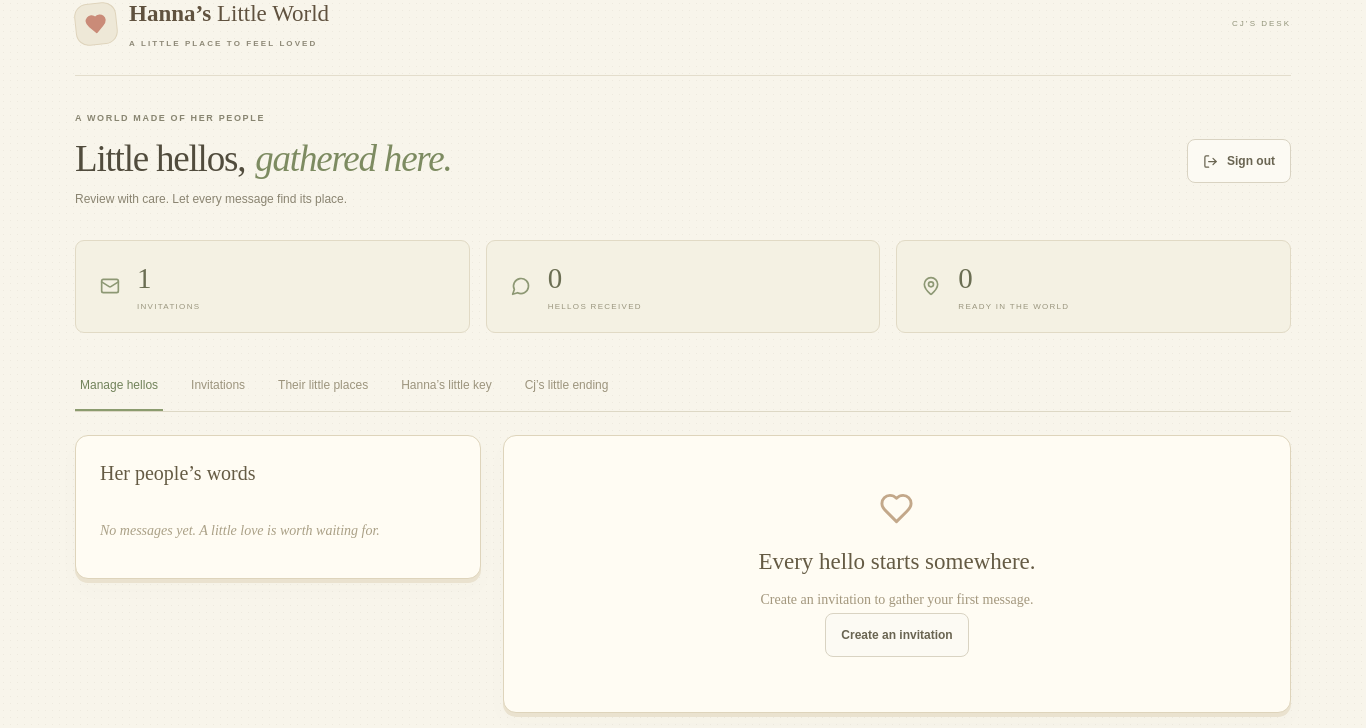
Test case: Returning contributor UI › reveals saved links and offers explicit replacement for older invitations
What coordinates should you click on to do the following:
click the button "Invitations"
I would click on:
 (218, 386)
Its box is x1=186 y1=362 x2=250 y2=411.
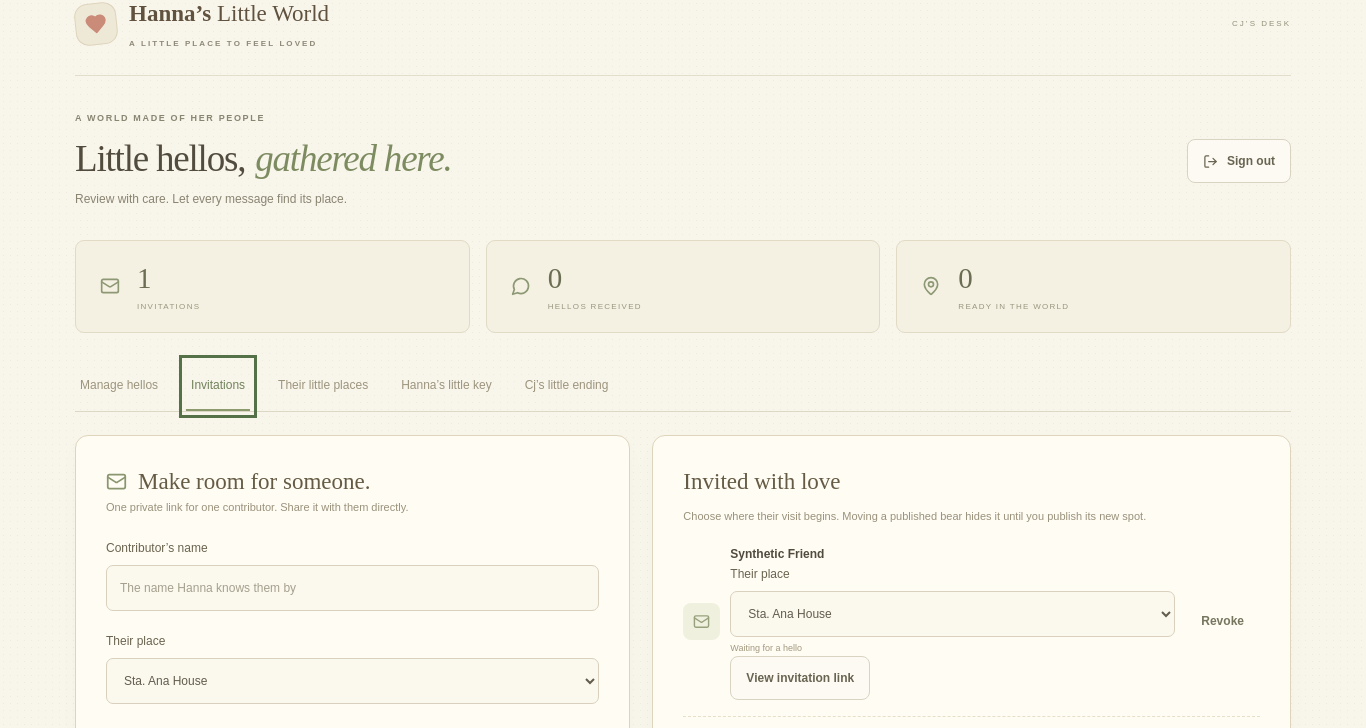
What coordinates should you click on to do the following:
click the button "View invitation link"
I would click on:
 (800, 678)
Its box is x1=730 y1=656 x2=870 y2=700.
(page scrolled)
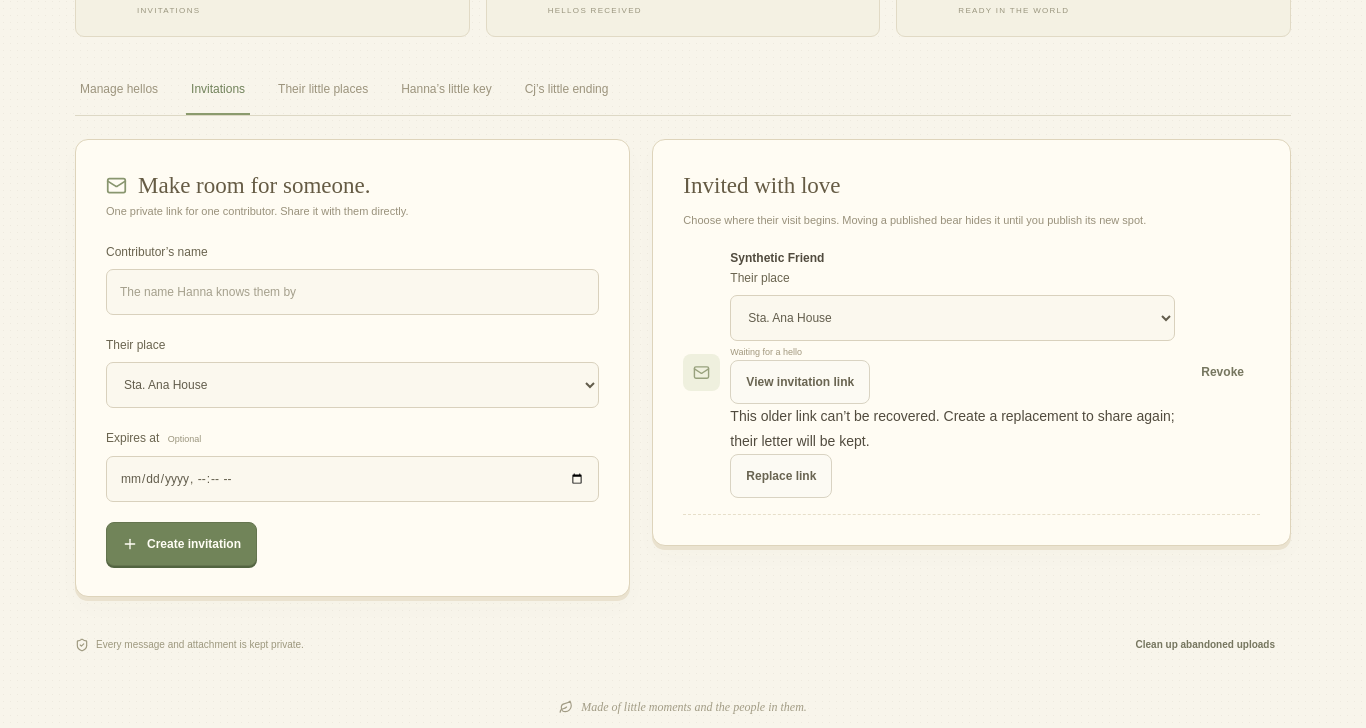
Check: the button "Replace link" is shown
What coordinates should you click on to do the following:
click the button "Replace link"
I would click on:
 (781, 476)
Its box is x1=730 y1=454 x2=832 y2=498.
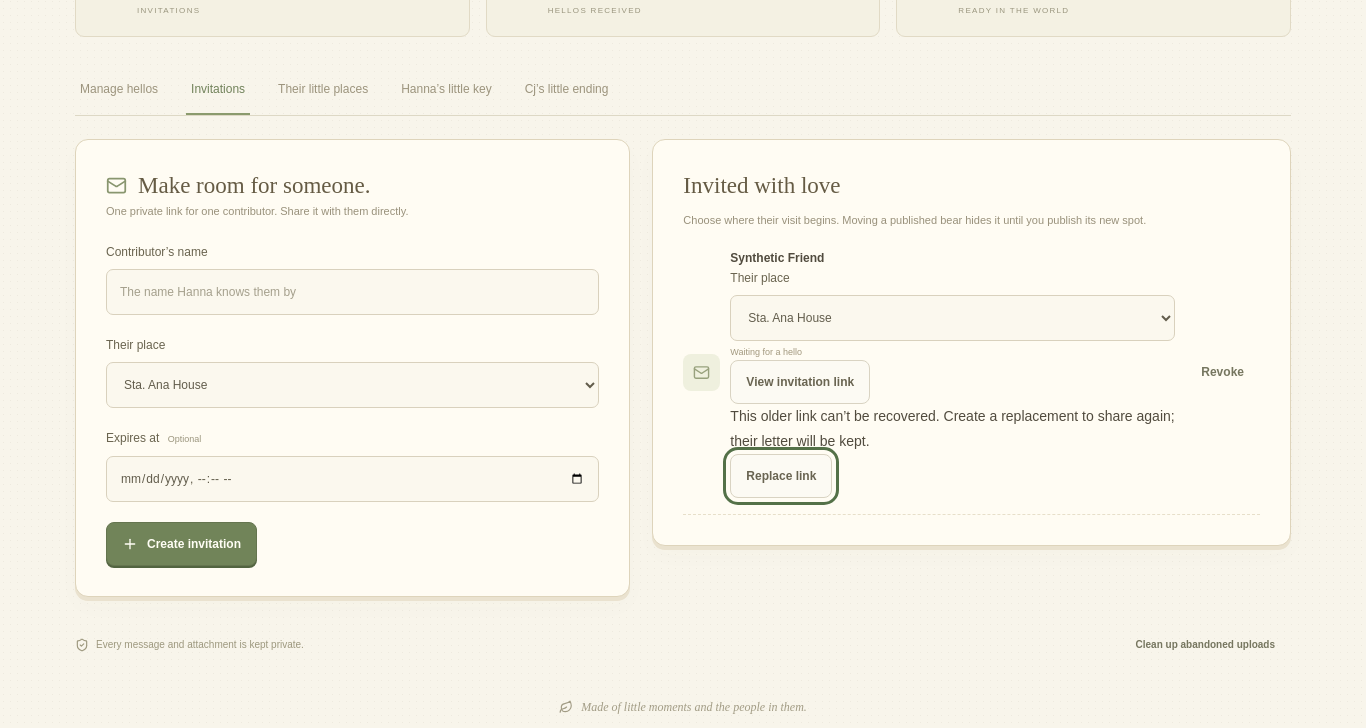
What coordinates should you click on to do the following:
click the button "Replace link"
I would click on:
 (781, 476)
Its box is x1=730 y1=454 x2=832 y2=498.
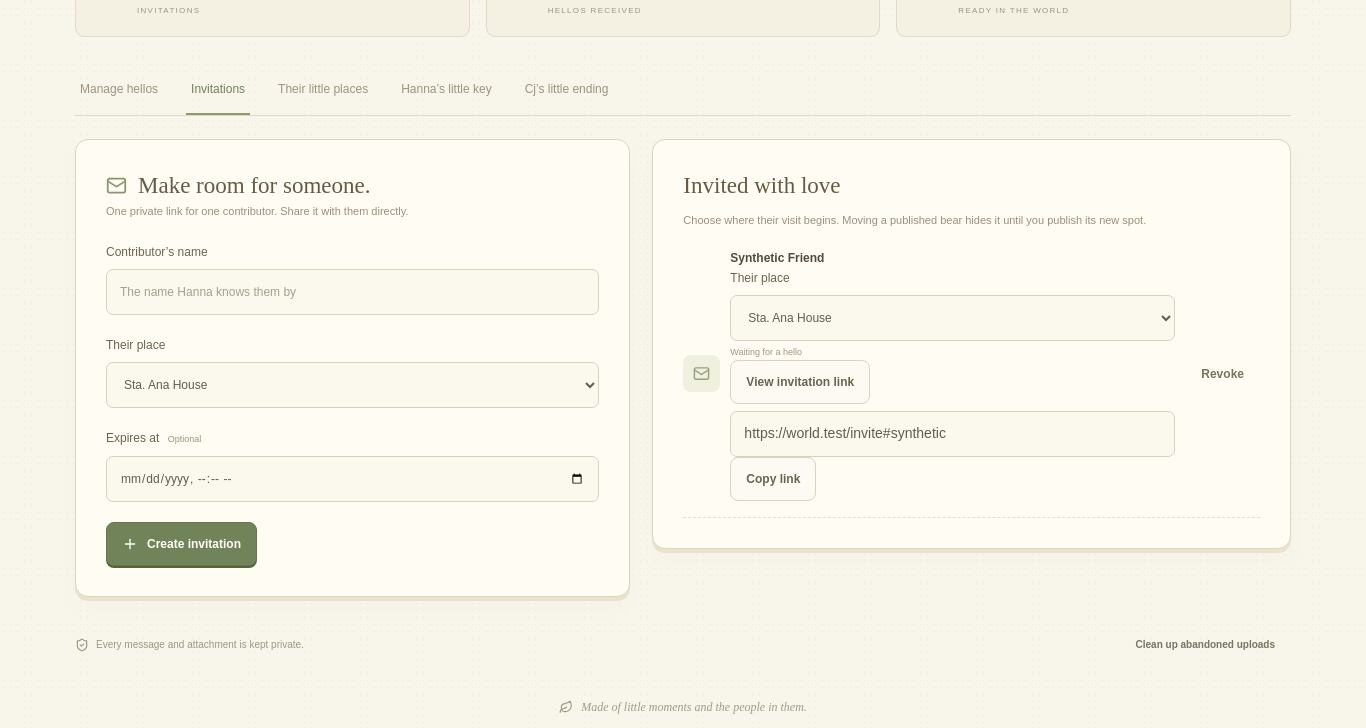
Check: the field named "Invitation link for Synthetic Friend" holds "https://world.test/invite#synthetic", box x1=730 y1=410 x2=1175 y2=456
